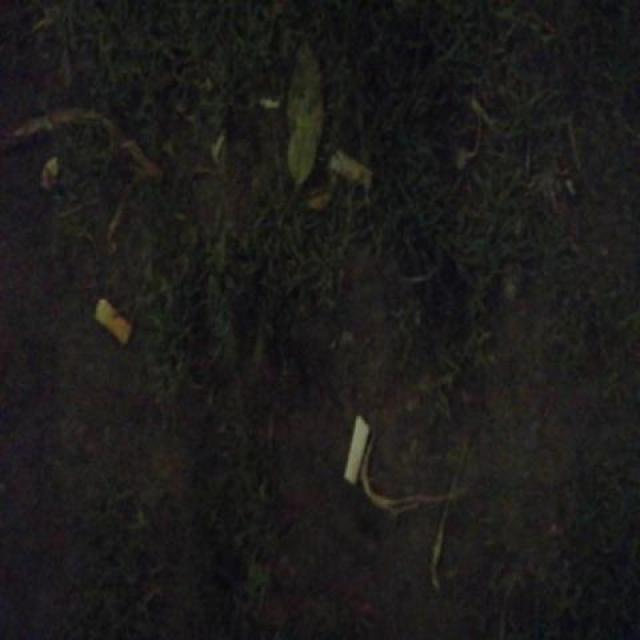non-organic waste: (89, 294, 136, 351), (325, 147, 379, 196), (342, 410, 374, 489)
